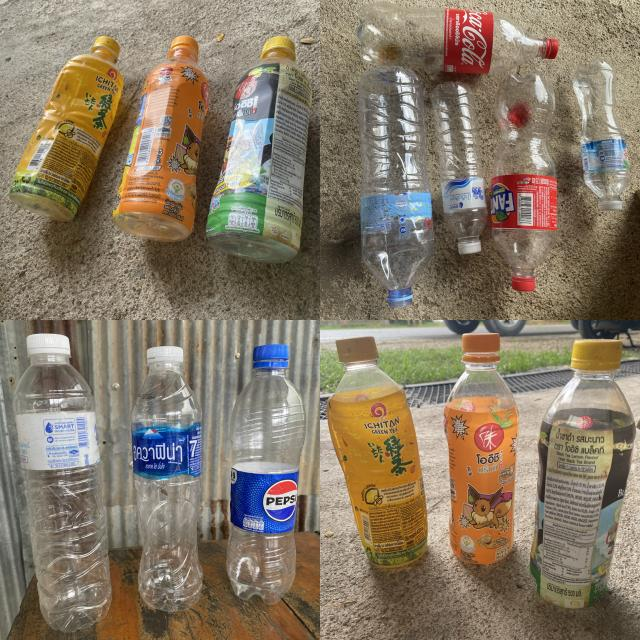plastik: (14, 334, 111, 632), (530, 340, 635, 609), (206, 36, 312, 262), (328, 336, 428, 567), (10, 36, 124, 221), (111, 35, 209, 242), (228, 345, 306, 604), (131, 346, 202, 612), (359, 66, 434, 309), (445, 334, 519, 564), (491, 71, 558, 291), (358, 4, 559, 74), (431, 81, 488, 255), (572, 59, 630, 211)
